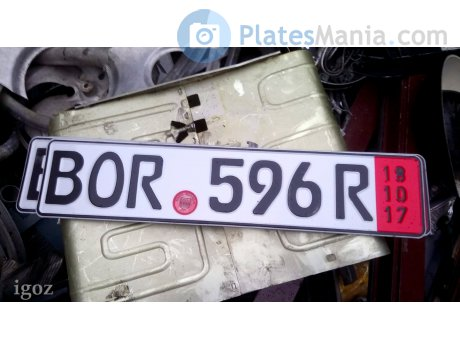License Plates: (55, 152, 360, 213)
